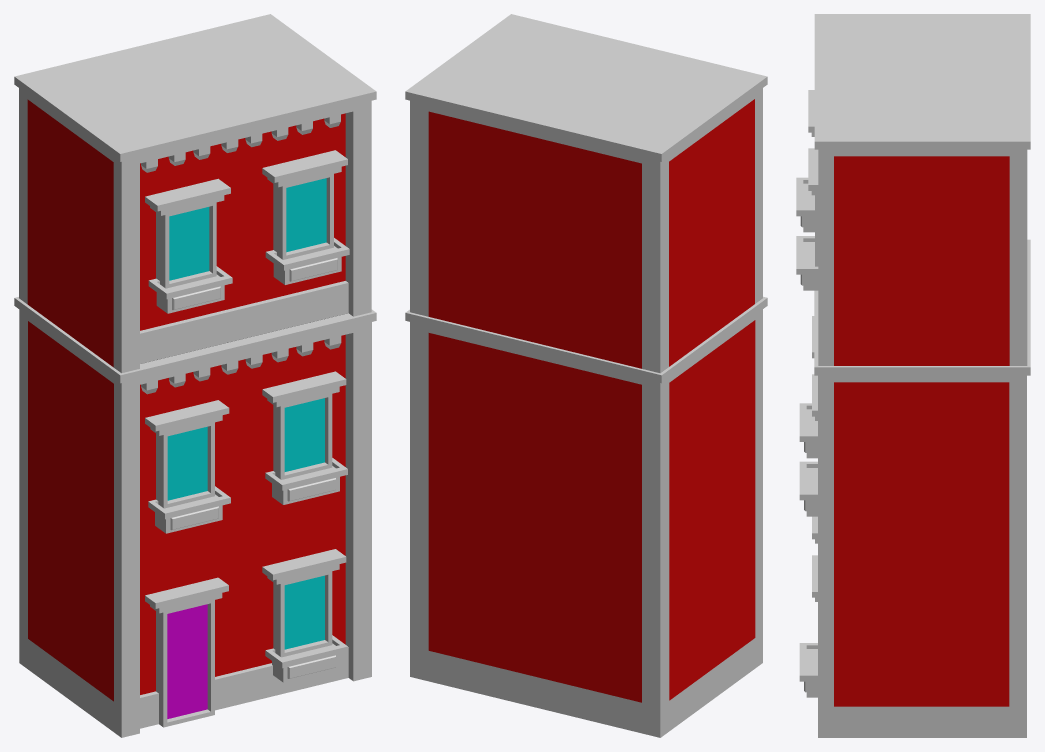
The model's file is Building_B.fbx.
3 renders of one model, left to right at view 1: azimuth 30°, elevation 25°; view 2: azimuth 150°, elevation 25°; view 3: azimuth 270°, elevation 25°, orthographic. The views are drawn at different scales.
Visible parts, largest first — view 1: Building_B; view 2: Building_B; view 3: Building_B.
Boxes of the visible parts, box(x1,y1,x2,y2) form: Building_B: box(14, 14, 376, 737); Building_B: box(405, 14, 767, 737); Building_B: box(796, 14, 1030, 737).
Bounding box in the file's own units: 500 × 1092 × 388.
